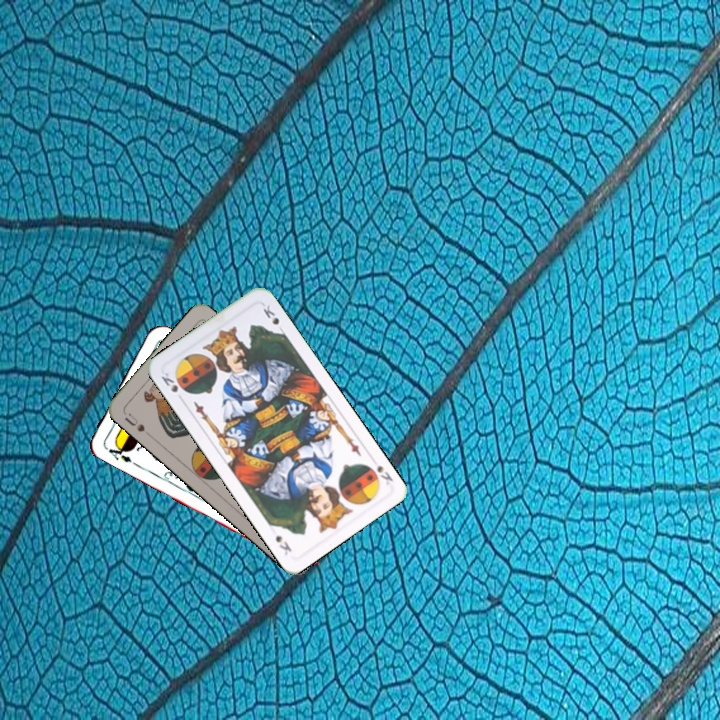EA: (102, 439, 134, 465)
SK: (157, 368, 181, 395), (373, 461, 396, 487)
SU: (120, 408, 147, 435)
